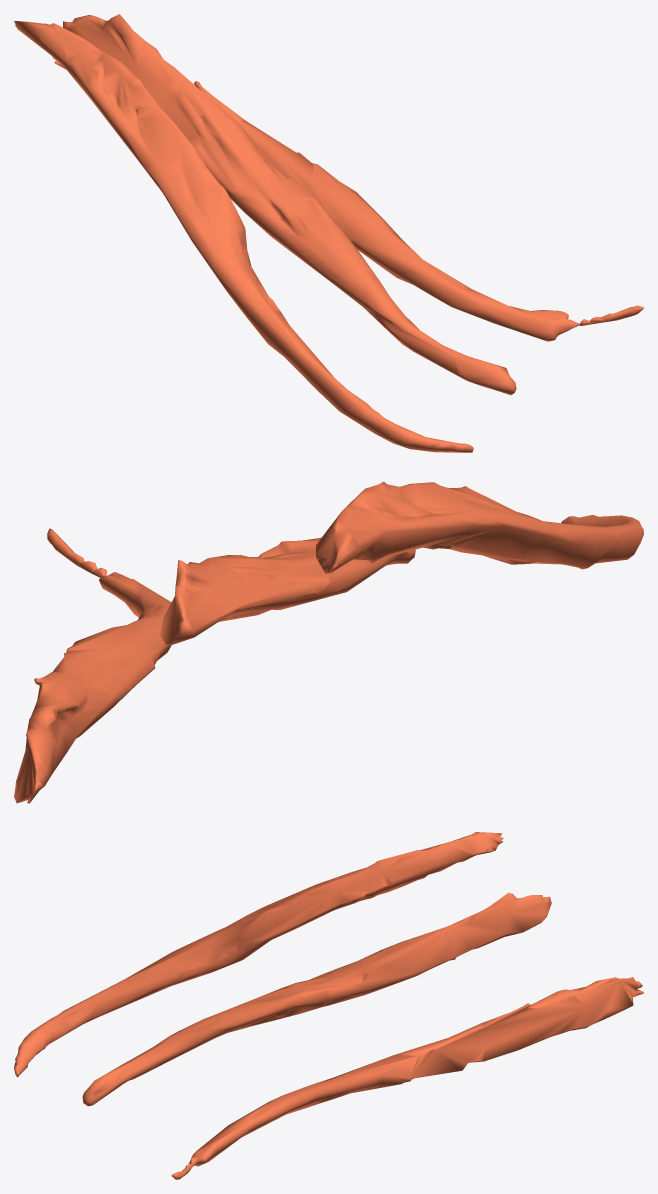
Rendered from Plantar_interossei_left.glb.
3 renders of one model, top to bottom at view 1: azimuth 30°, elevation 25°; view 2: azimuth 150°, elevation 25°; view 3: azimuth 270°, elevation 25°, orthographic. The views are drawn at different scales.
Parts seen in each view (by area): view 1: Plantar_interossei_muscles.l_Generated_Mesh_From_X3D.296; view 2: Plantar_interossei_muscles.l_Generated_Mesh_From_X3D.296; view 3: Plantar_interossei_muscles.l_Generated_Mesh_From_X3D.296.
Boxes of the visible parts, left/top/right/bottom form: Plantar_interossei_muscles.l_Generated_Mesh_From_X3D.296: left=14, top=14, right=643, bottom=452; Plantar_interossei_muscles.l_Generated_Mesh_From_X3D.296: left=14, top=481, right=643, bottom=803; Plantar_interossei_muscles.l_Generated_Mesh_From_X3D.296: left=14, top=832, right=643, bottom=1179.
Bounding box in the file's own units: 0.043 × 0.0263 × 0.0718.
